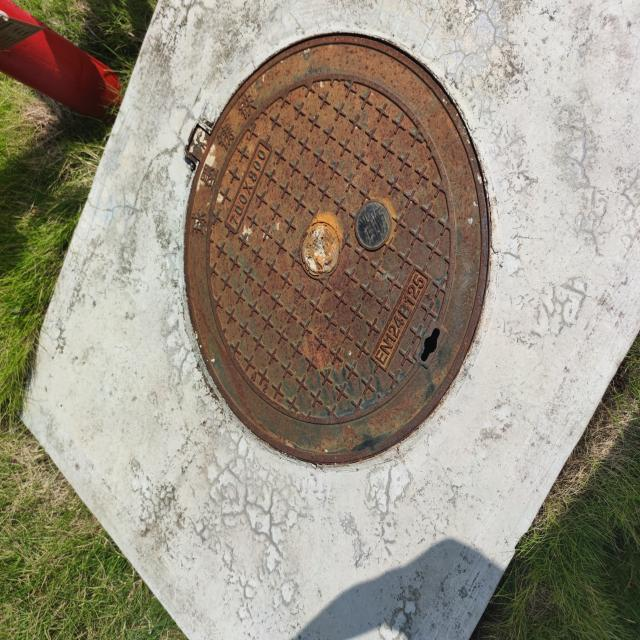Good: (173, 26, 500, 482)
